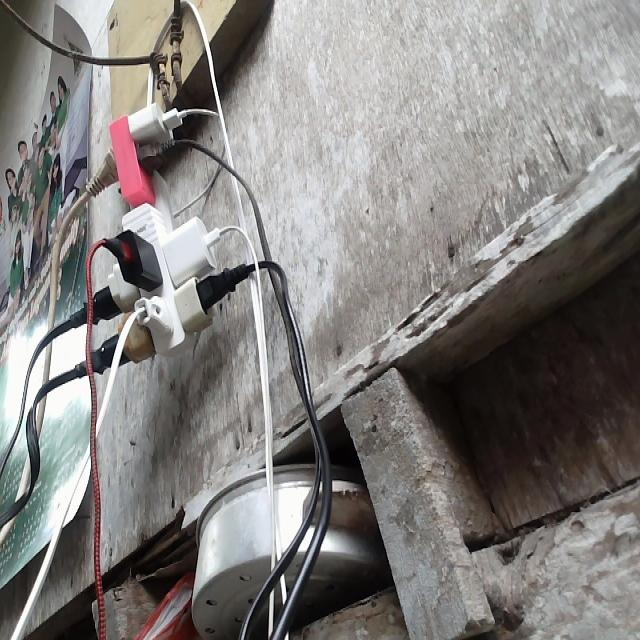-: (79, 99, 237, 362)
